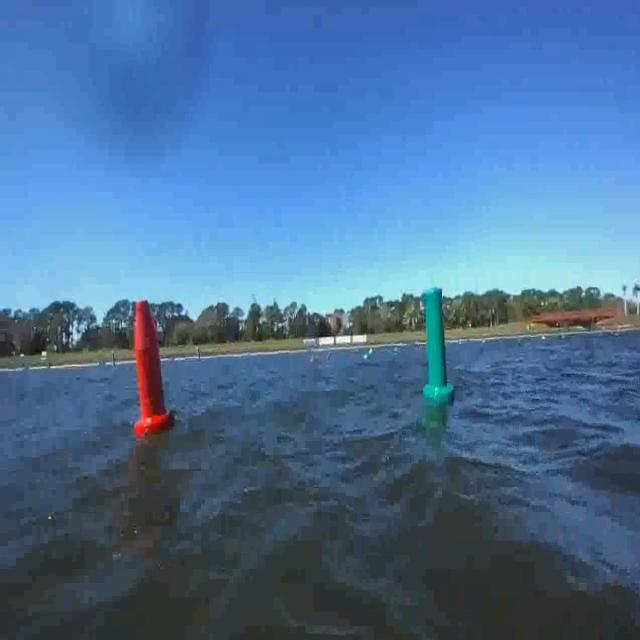green-column-buoy: (422, 284, 454, 402)
red-column-buoy: (132, 296, 172, 434)
